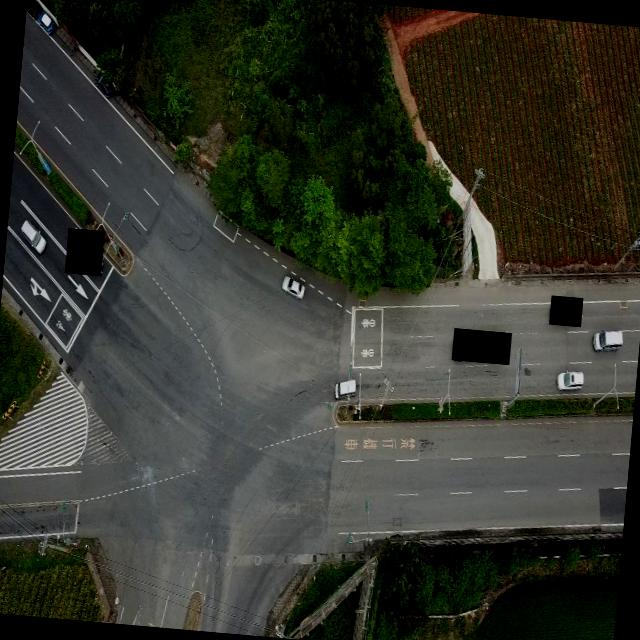car: (18, 216, 48, 254), (591, 326, 624, 354), (280, 270, 306, 300), (332, 374, 359, 401), (556, 367, 584, 391), (38, 5, 56, 38), (94, 68, 115, 96)
